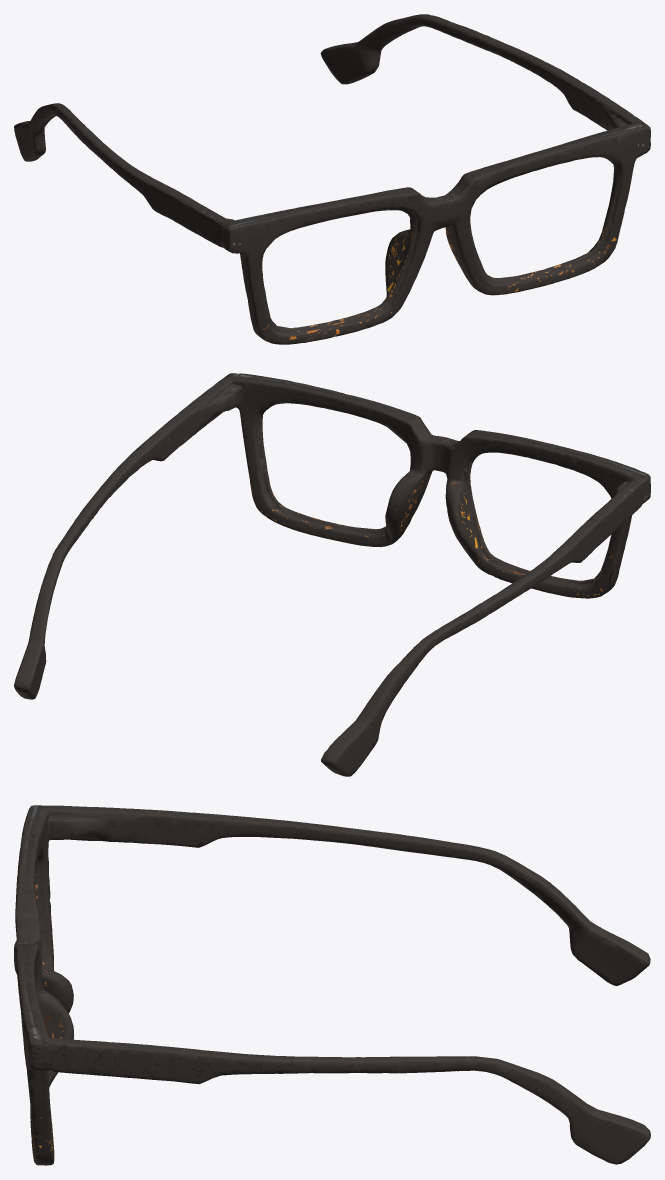
The model's file is lool-tr90-square.glb.
3 views of the same model, one above another, from view 1: azimuth 30°, elevation 25°; view 2: azimuth 150°, elevation 25°; view 3: azimuth 270°, elevation 25° (orthographic). The views are drawn at different scales.
Size of the model in its own units: 0.145 by 0.0444 by 0.1603.
1 material, 1 textured.
